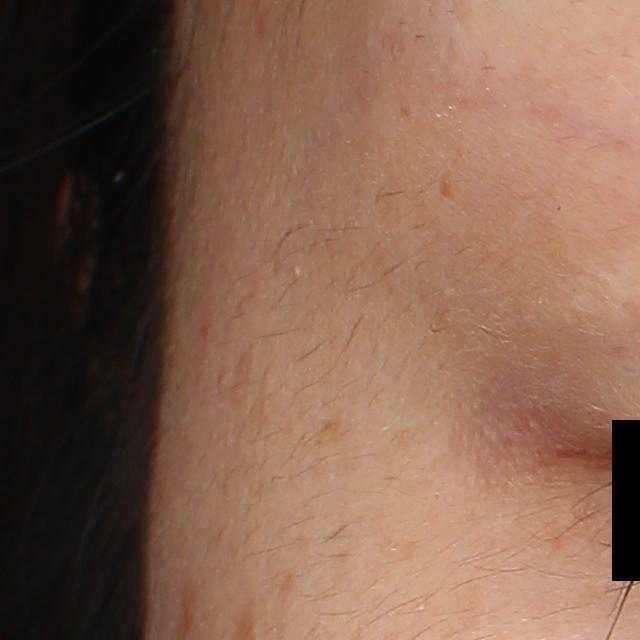melasma: (178, 576, 202, 635), (437, 173, 458, 196)
